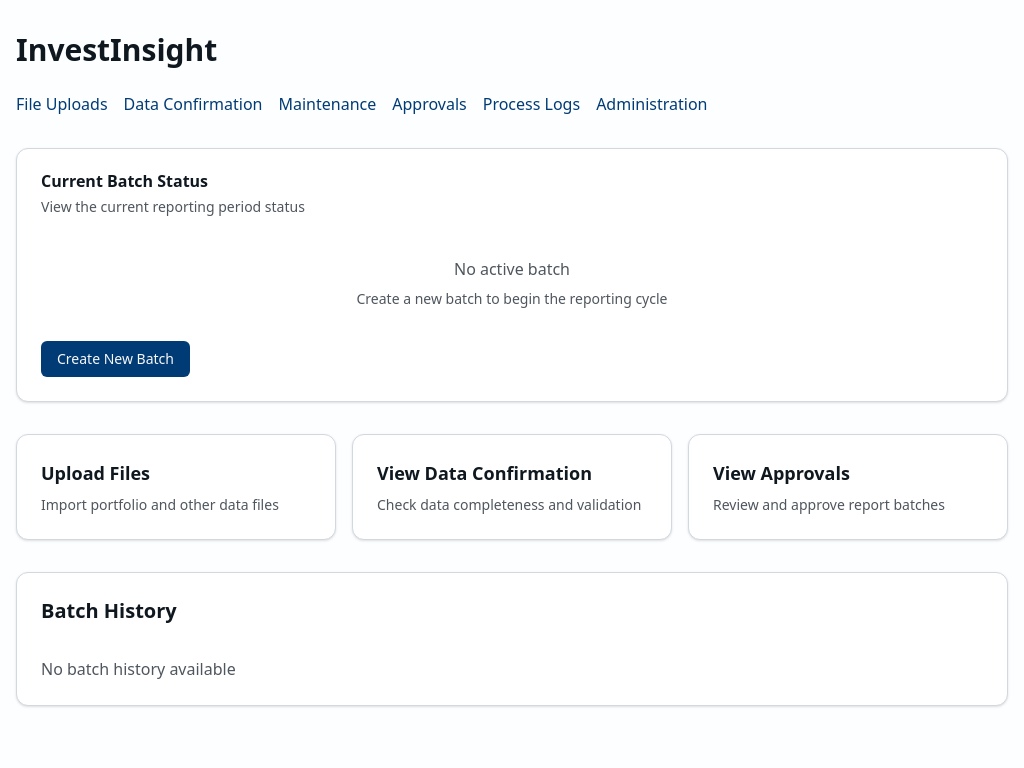
Test: Epic 1, Story 2: Start Page - Batch Creation › Happy Path › displays newly created batch in Current Batch section with "Data Preparation" status
# Create batch
Click the button "Create New Batch". click: (116, 359)
box: top-left (41, 341), bottom-right (190, 377)
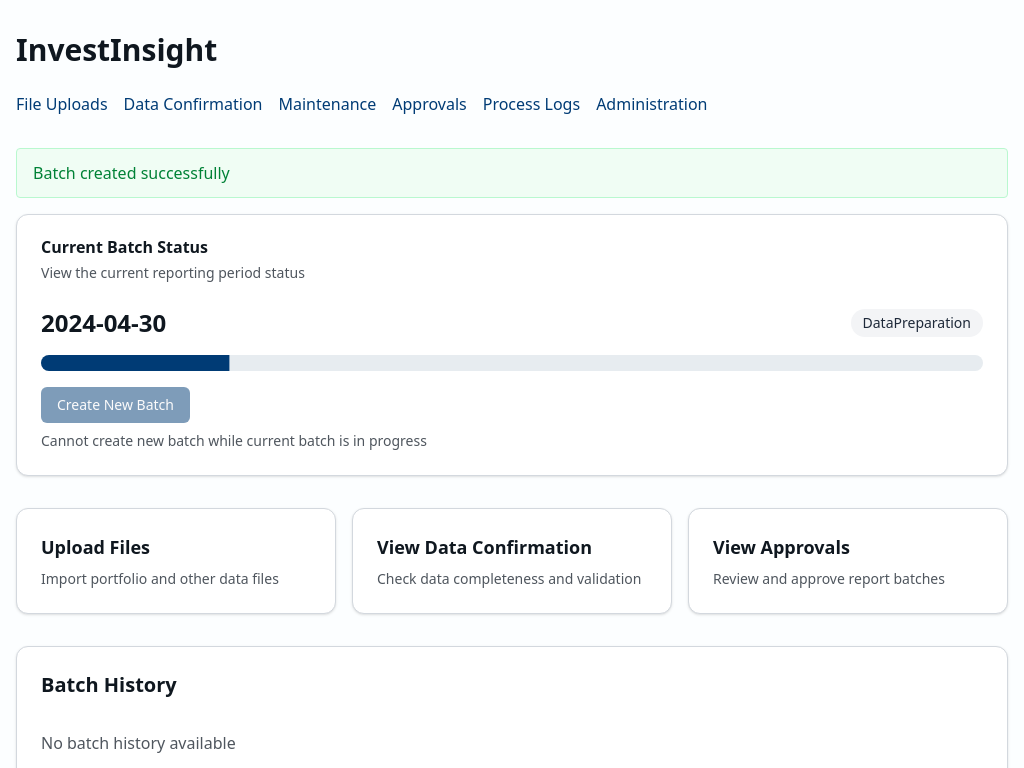
Result: the text "2024-04-30" is shown at top-left (41, 307), bottom-right (166, 339)
Result: the text "DataPreparation" is shown at top-left (850, 309), bottom-right (983, 337)
